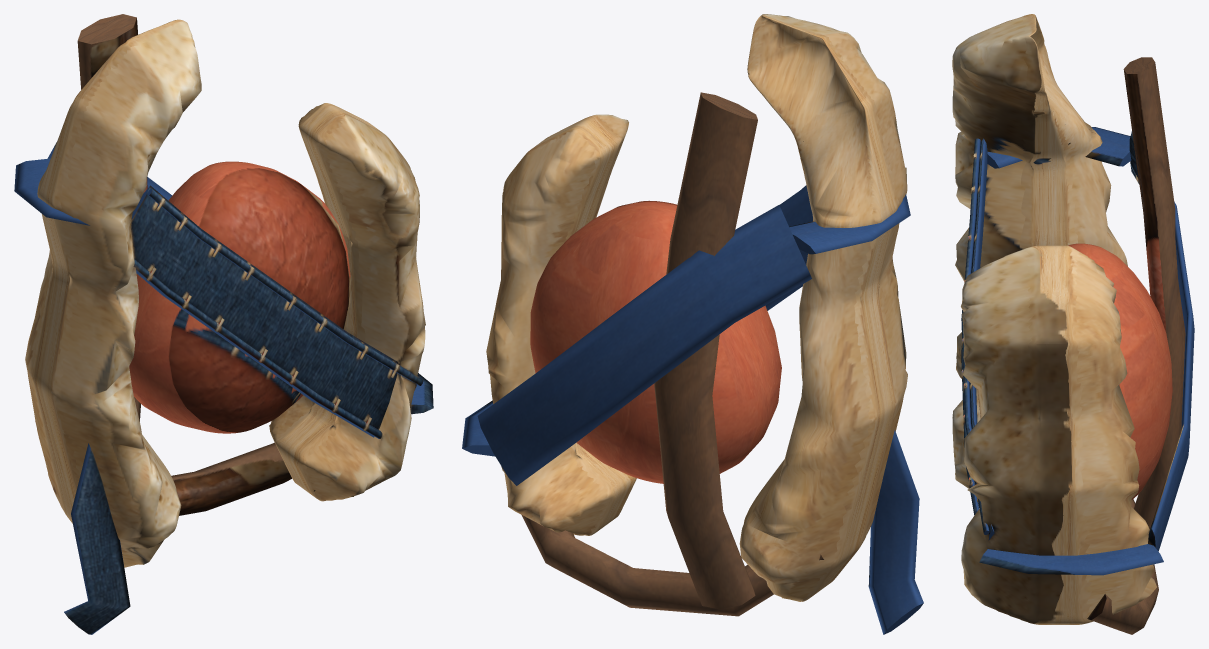
The model's file is carved_capsule_single.obj.
3 renders of one model, left to right at view 1: azimuth 30°, elevation 25°; view 2: azimuth 150°, elevation 25°; view 3: azimuth 270°, elevation 25°, orthographic. The views are drawn at different scales.
Visible parts, largest first — view 1: BakedAssembly.001_carved_capsule_mesh_projected_surface; view 2: BakedAssembly.001_carved_capsule_mesh_projected_surface; view 3: BakedAssembly.001_carved_capsule_mesh_projected_surface.
Boxes of the visible parts, <box> form: BakedAssembly.001_carved_capsule_mesh_projected_surface: <box>14,14,433,634</box>; BakedAssembly.001_carved_capsule_mesh_projected_surface: <box>462,14,923,634</box>; BakedAssembly.001_carved_capsule_mesh_projected_surface: <box>952,14,1194,634</box>.
Size of the model in its own units: 2.52 by 3.59 by 1.37.
Materials: 1 (1 with a texture image).
